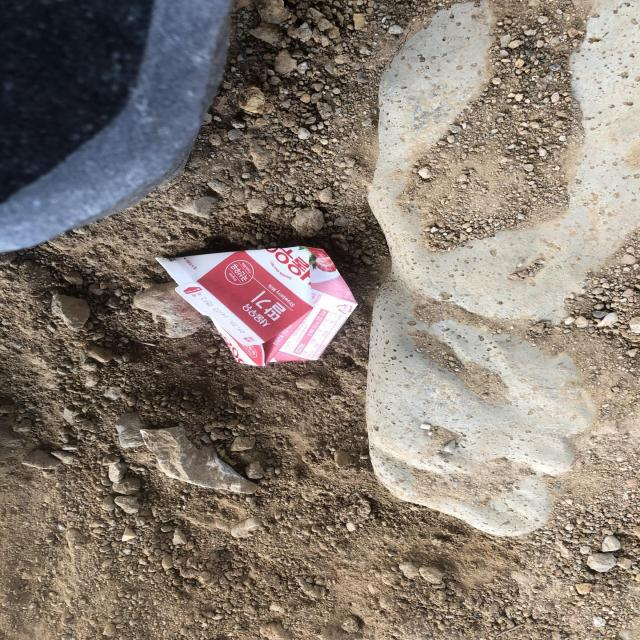paperpack: (155, 246, 357, 366)
